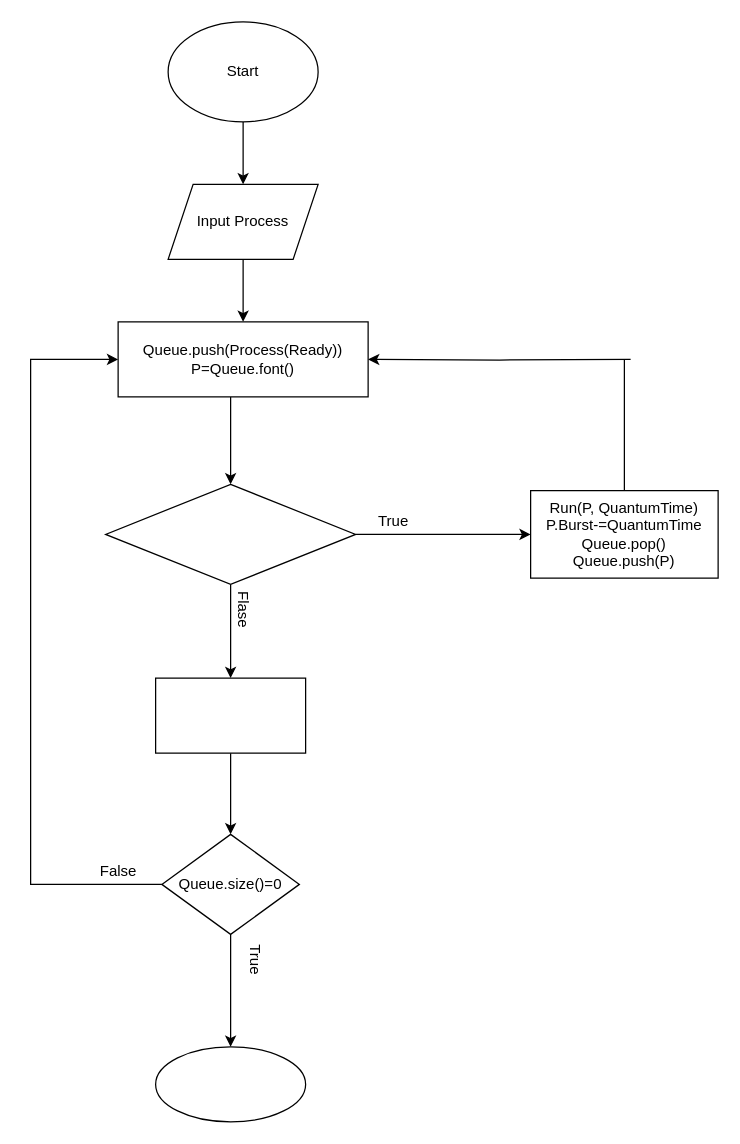
The diagram is 740 pixels wide and 1144 high, and some of its shapes have lost their labels. The centre of each missing label's shape, as x and y in pixels:
End: point (230, 1084)
P.Burst>QuantumTime: point (230, 533)
Run(P, P.Burst) Queue.pop(): point (230, 715)
